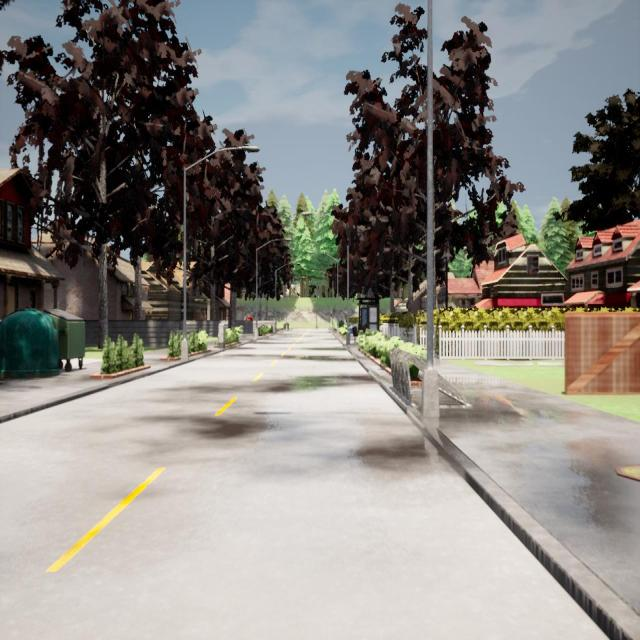traffic_light: (330, 310, 332, 316)
